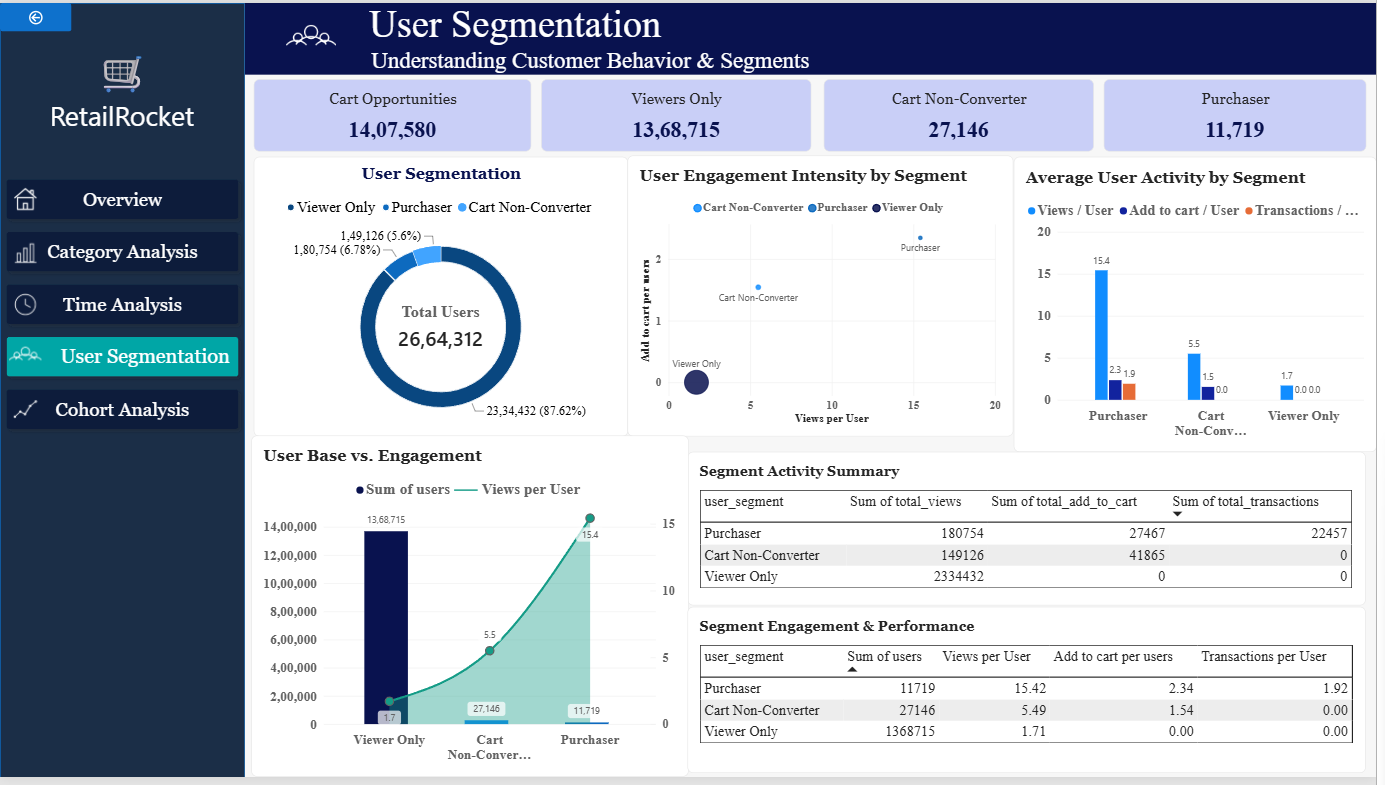

The dashboard page shown, as its layout file describes it:
{"tool":"powerbi","page":{"name":"User Segmentation","canvas":[1920,1080],"ordinal":3},"visuals":[{"type":"shape","box":[0,0,341.9,1081.4],"z":0},{"type":"textbox","title":"Category Analysis","box":[342,0,1578,100],"z":0,"group":"g1"},{"type":"actionButton","box":[0,237.2,341.9,73.3],"z":1000},{"type":"actionButton","box":[0,310.5,341.9,73.3],"z":2000},{"type":"actionButton","box":[0,383.7,341.9,73.3],"z":3000},{"type":"actionButton","box":[0,457,341.9,73.3],"z":4000},{"type":"actionButton","box":[0,530.2,341.9,73.3],"z":5000},{"type":"textbox","box":[29.7,41.9,280.8,177.9],"z":6000},{"type":"card","title":"Cart Opportunities","fields":{"Values":["Sum(User_Segments.users)"]},"box":[354.1,106.4,387.2,101.2],"z":7000},{"type":"card","title":"Viewers Only","fields":{"Values":["User_Segments.Viewers_only"]},"box":[755.2,106.4,376.7,101.2],"z":8000},{"type":"card","title":"Cart Non-Converter","fields":{"Values":["User_Segments.Cart_non_converter"]},"box":[1149.4,106.4,376.7,101.2],"z":9000},{"type":"card","title":"Purchaser","fields":{"Values":["User_Segments.Purchase"]},"box":[1540.1,106.4,366.3,101.2],"z":10000},{"type":"group","id":"g1","title":"Group 1","box":[342,0,1578,100],"z":11000},{"type":"actionButton","box":[0,0,100,40],"z":12000},{"type":"donutChart","title":"User Segmentation","fields":{"Category":["User_Segments.user_segment"],"Y":["Sum(User_Segments.total_views)"]},"box":[354,214,522,390],"z":13000},{"type":"scatterChart","title":"User Engagement Intensity by Segment","fields":{"Series":["User_Segments.user_segment"],"Size":["Sum(User_Segments.users)"],"X":["User_Segments.Views per User"],"Y":["User_Segments.Add to cart per users"]},"box":[876,212,538,392],"z":14000},{"type":"clusteredColumnChart","title":"Average User Activity by Segment","fields":{"Category":["User_Segments.user_segment"],"Y":["User_Segments.Views per User","User_Segments.Add to cart per users","User_Segments.Transactions per Purchaser"]},"box":[1414,214,506,412],"z":15000},{"type":"tableEx","title":"Segment Activity Summary","fields":{"Values":["User_Segments.user_segment","Sum(User_Segments.total_views)","Sum(User_Segments.total_add_to_cart)","Sum(User_Segments.total_transactions)"]},"box":[960,626,946,214],"z":16000},{"type":"lineClusteredColumnComboChart","title":"User Base vs. Engagement","fields":{"Category":["User_Segments.user_segment"],"Y":["Sum(User_Segments.users)"],"Y2":["User_Segments.Views per User"]},"box":[350,604,610,476],"z":17000},{"type":"tableEx","title":"Segment Engagement & Performance","fields":{"Values":["User_Segments.user_segment","Sum(User_Segments.users)","User_Segments.Views per User","User_Segments.Add to cart per users","User_Segments.Transactions per User"]},"box":[960,842,946,232],"z":18000},{"type":"image","box":[387.8,16.9,93.7,69.3],"z":19000}]}

Visuals, with their boxes on the page's 1920x1080 design canvas (x1, y1, x2, y2). These are canvas units, not pixel positions in the 1385x785 screenshot, which may show the page scaled, cropped or inside an application window:
shape: [left=0, top=0, right=342, bottom=1081]
"Category Analysis" textbox: [left=342, top=0, right=1920, bottom=100]
actionButton: [left=0, top=237, right=342, bottom=310]
actionButton: [left=0, top=310, right=342, bottom=384]
actionButton: [left=0, top=384, right=342, bottom=457]
actionButton: [left=0, top=457, right=342, bottom=530]
actionButton: [left=0, top=530, right=342, bottom=604]
textbox: [left=30, top=42, right=310, bottom=220]
"Cart Opportunities" card: [left=354, top=106, right=741, bottom=208]
"Viewers Only" card: [left=755, top=106, right=1132, bottom=208]
"Cart Non-Converter" card: [left=1149, top=106, right=1526, bottom=208]
"Purchaser" card: [left=1540, top=106, right=1906, bottom=208]
"Group 1" group: [left=342, top=0, right=1920, bottom=100]
actionButton: [left=0, top=0, right=100, bottom=40]
"User Segmentation" donutChart: [left=354, top=214, right=876, bottom=604]
"User Engagement Intensity by Segment" scatterChart: [left=876, top=212, right=1414, bottom=604]
"Average User Activity by Segment" clusteredColumnChart: [left=1414, top=214, right=1920, bottom=626]
"Segment Activity Summary" tableEx: [left=960, top=626, right=1906, bottom=840]
"User Base vs. Engagement" lineClusteredColumnComboChart: [left=350, top=604, right=960, bottom=1080]
"Segment Engagement & Performance" tableEx: [left=960, top=842, right=1906, bottom=1074]
image: [left=388, top=17, right=482, bottom=86]
